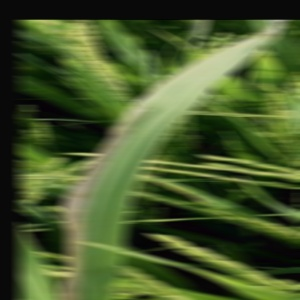Leaf_Blast: (63, 127, 140, 300)
